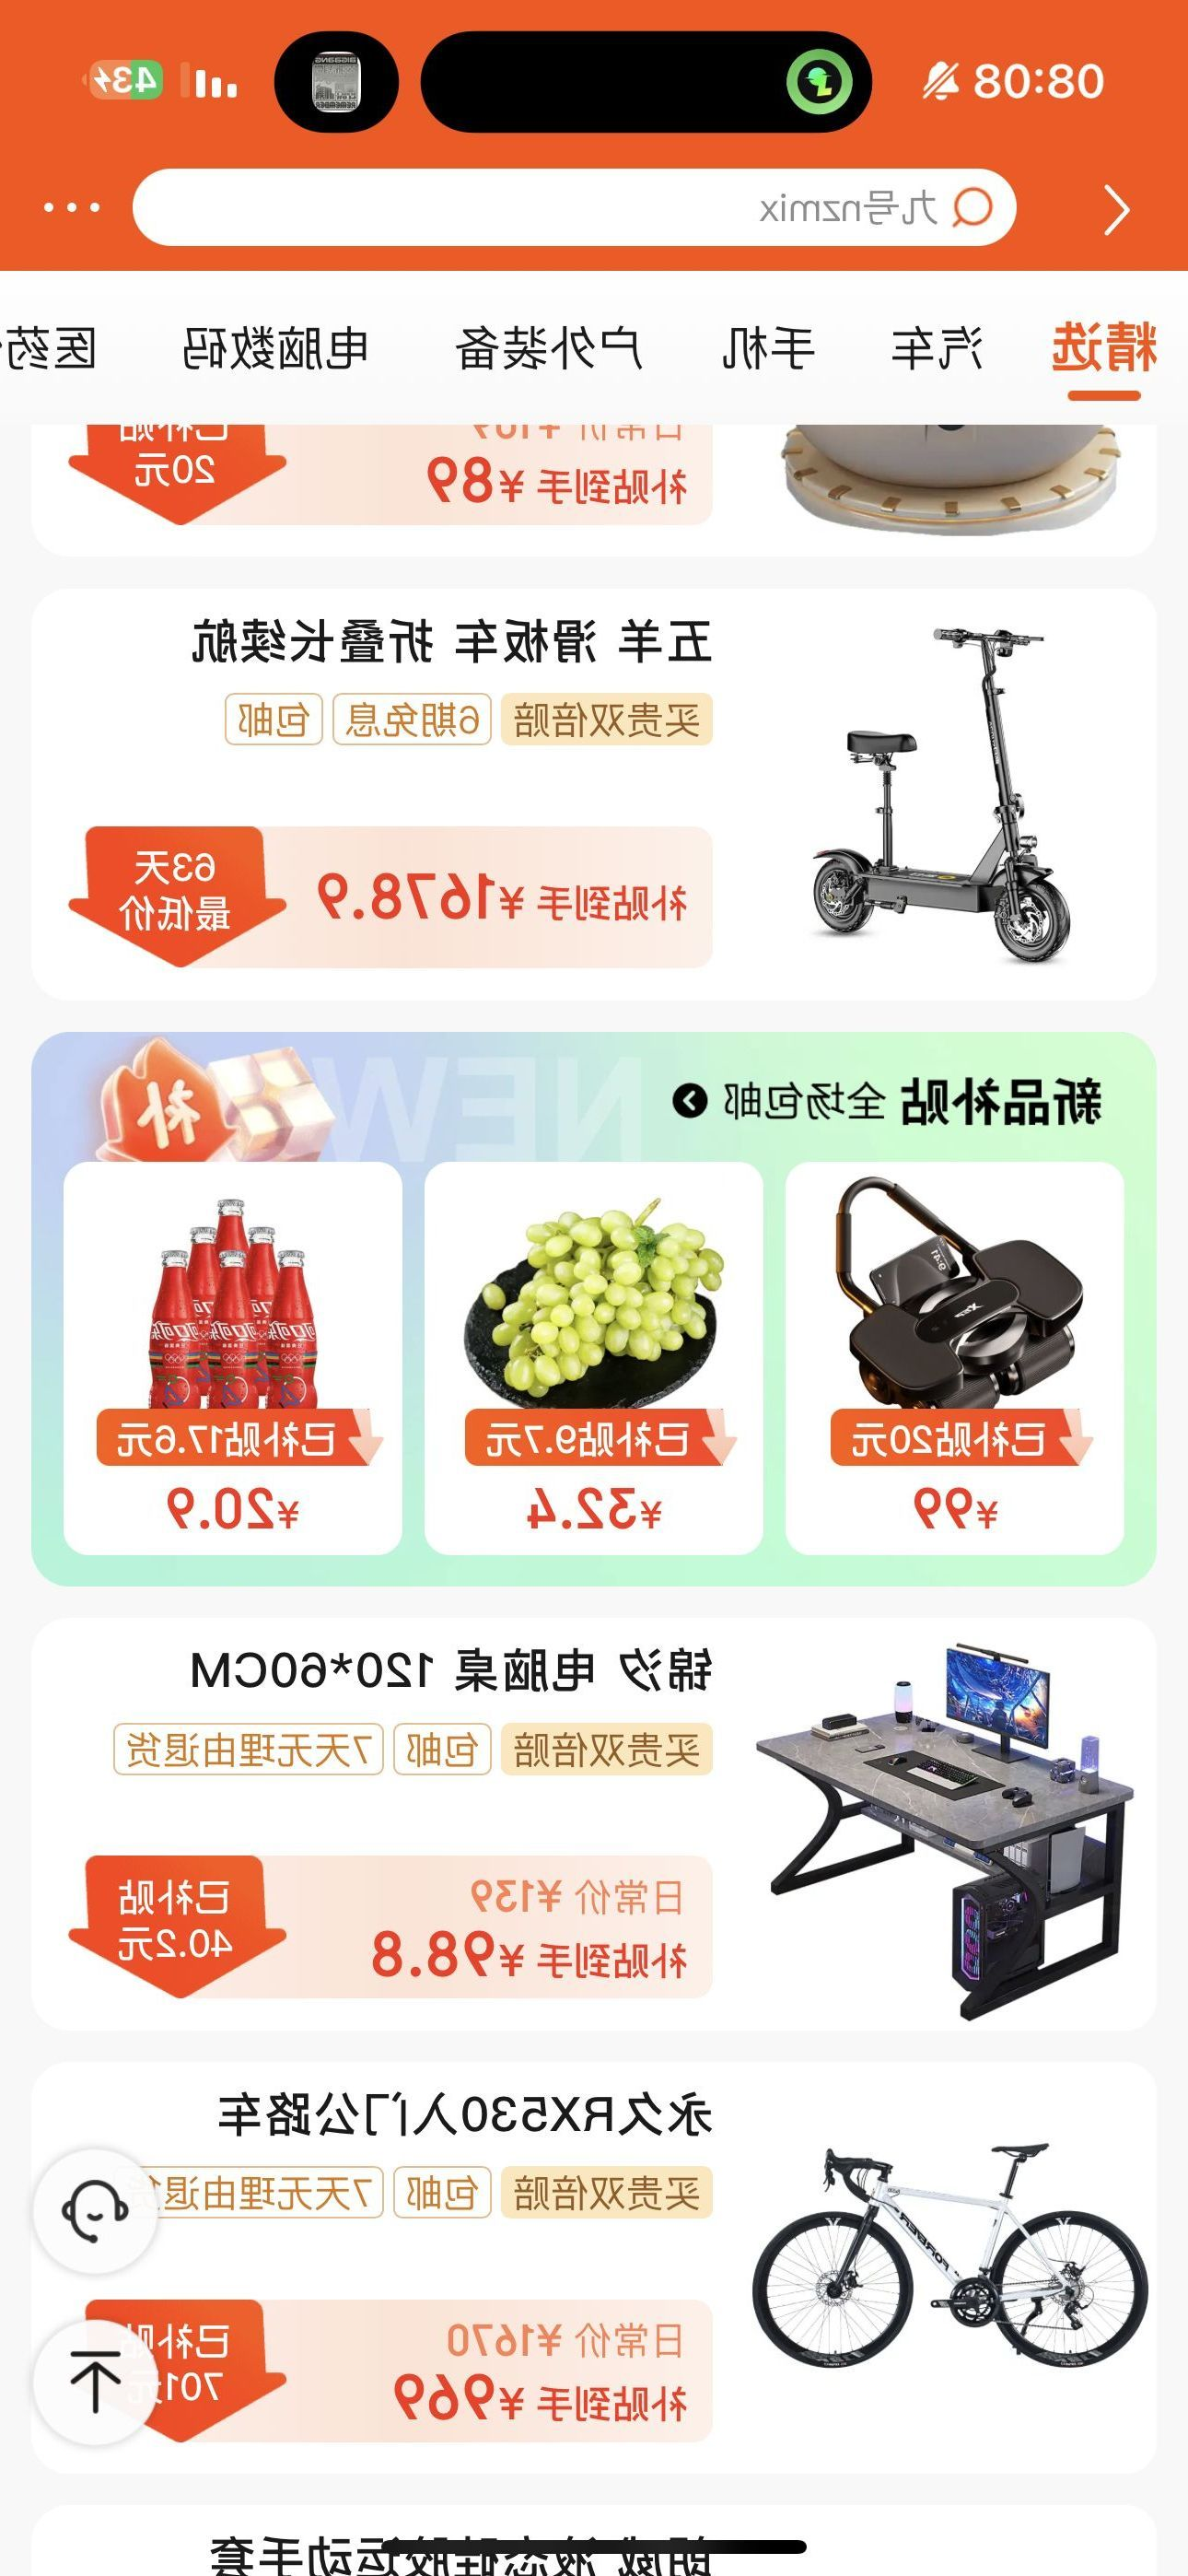banner: (35, 1028, 1160, 1582)
item: (36, 2065, 1160, 2491), (39, 1621, 1162, 2029), (48, 586, 1153, 992)
op_bar: (10, 154, 1181, 278)
